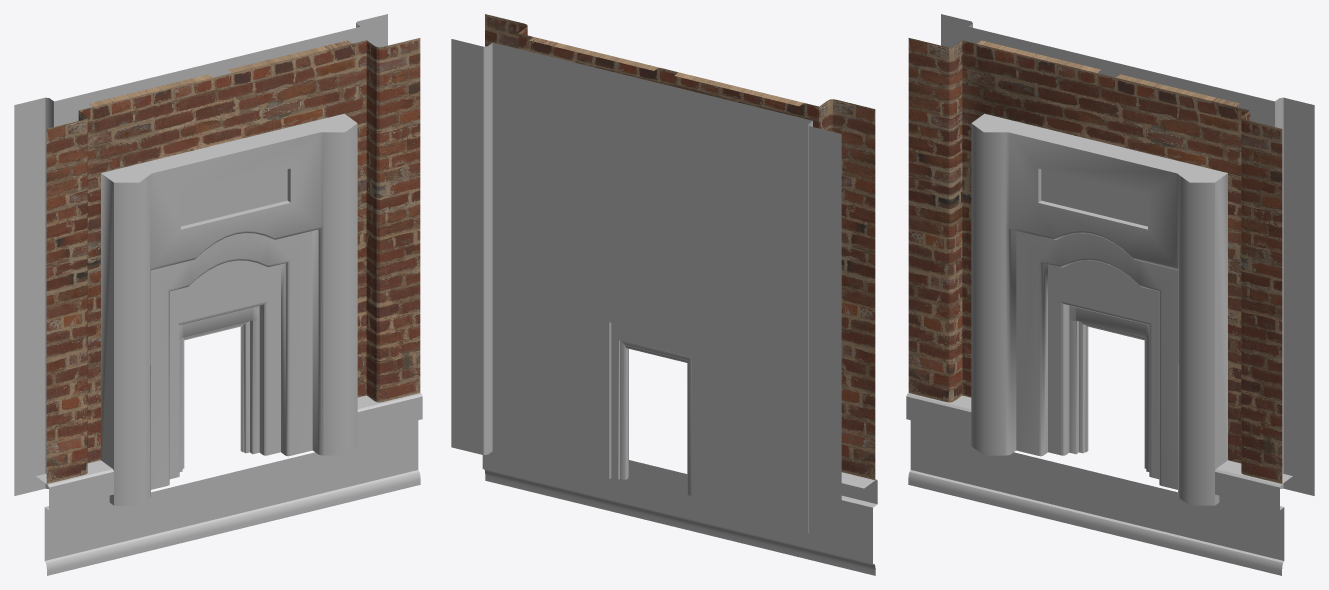
File: SM_Wall_Entrance_SingleInterior.fbx
3 renders of one model, left to right at view 1: azimuth 30°, elevation 25°; view 2: azimuth 150°, elevation 25°; view 3: azimuth 330°, elevation 25°, orthographic. The views are drawn at different scales.
Parts seen in each view (by area): view 1: SM_Wall_Entrance_SingleInterior; view 2: SM_Wall_Entrance_SingleInterior; view 3: SM_Wall_Entrance_SingleInterior.
Part boxes in pixels (x1,y1,x2,y2): SM_Wall_Entrance_SingleInterior: (14, 14, 422, 575); SM_Wall_Entrance_SingleInterior: (451, 14, 877, 575); SM_Wall_Entrance_SingleInterior: (906, 14, 1314, 575).
Bounding box in the file's own units: 700 × 133 × 800.
